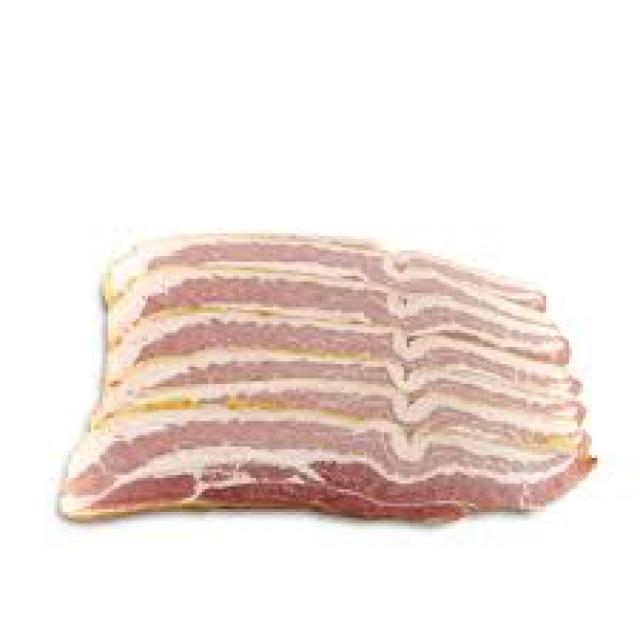bacon: (64, 233, 599, 523)
